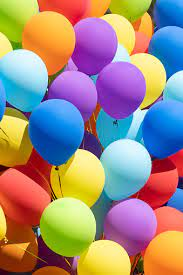Balloon: (29, 99, 82, 166), (40, 198, 96, 258), (99, 139, 152, 199), (23, 11, 75, 72), (49, 148, 104, 204), (1, 50, 47, 113), (102, 198, 157, 250), (96, 62, 146, 119), (1, 168, 50, 224), (71, 17, 117, 74), (144, 99, 183, 155), (79, 240, 131, 275), (1, 108, 31, 167), (145, 230, 183, 275), (1, 1, 38, 41), (150, 27, 183, 71)
